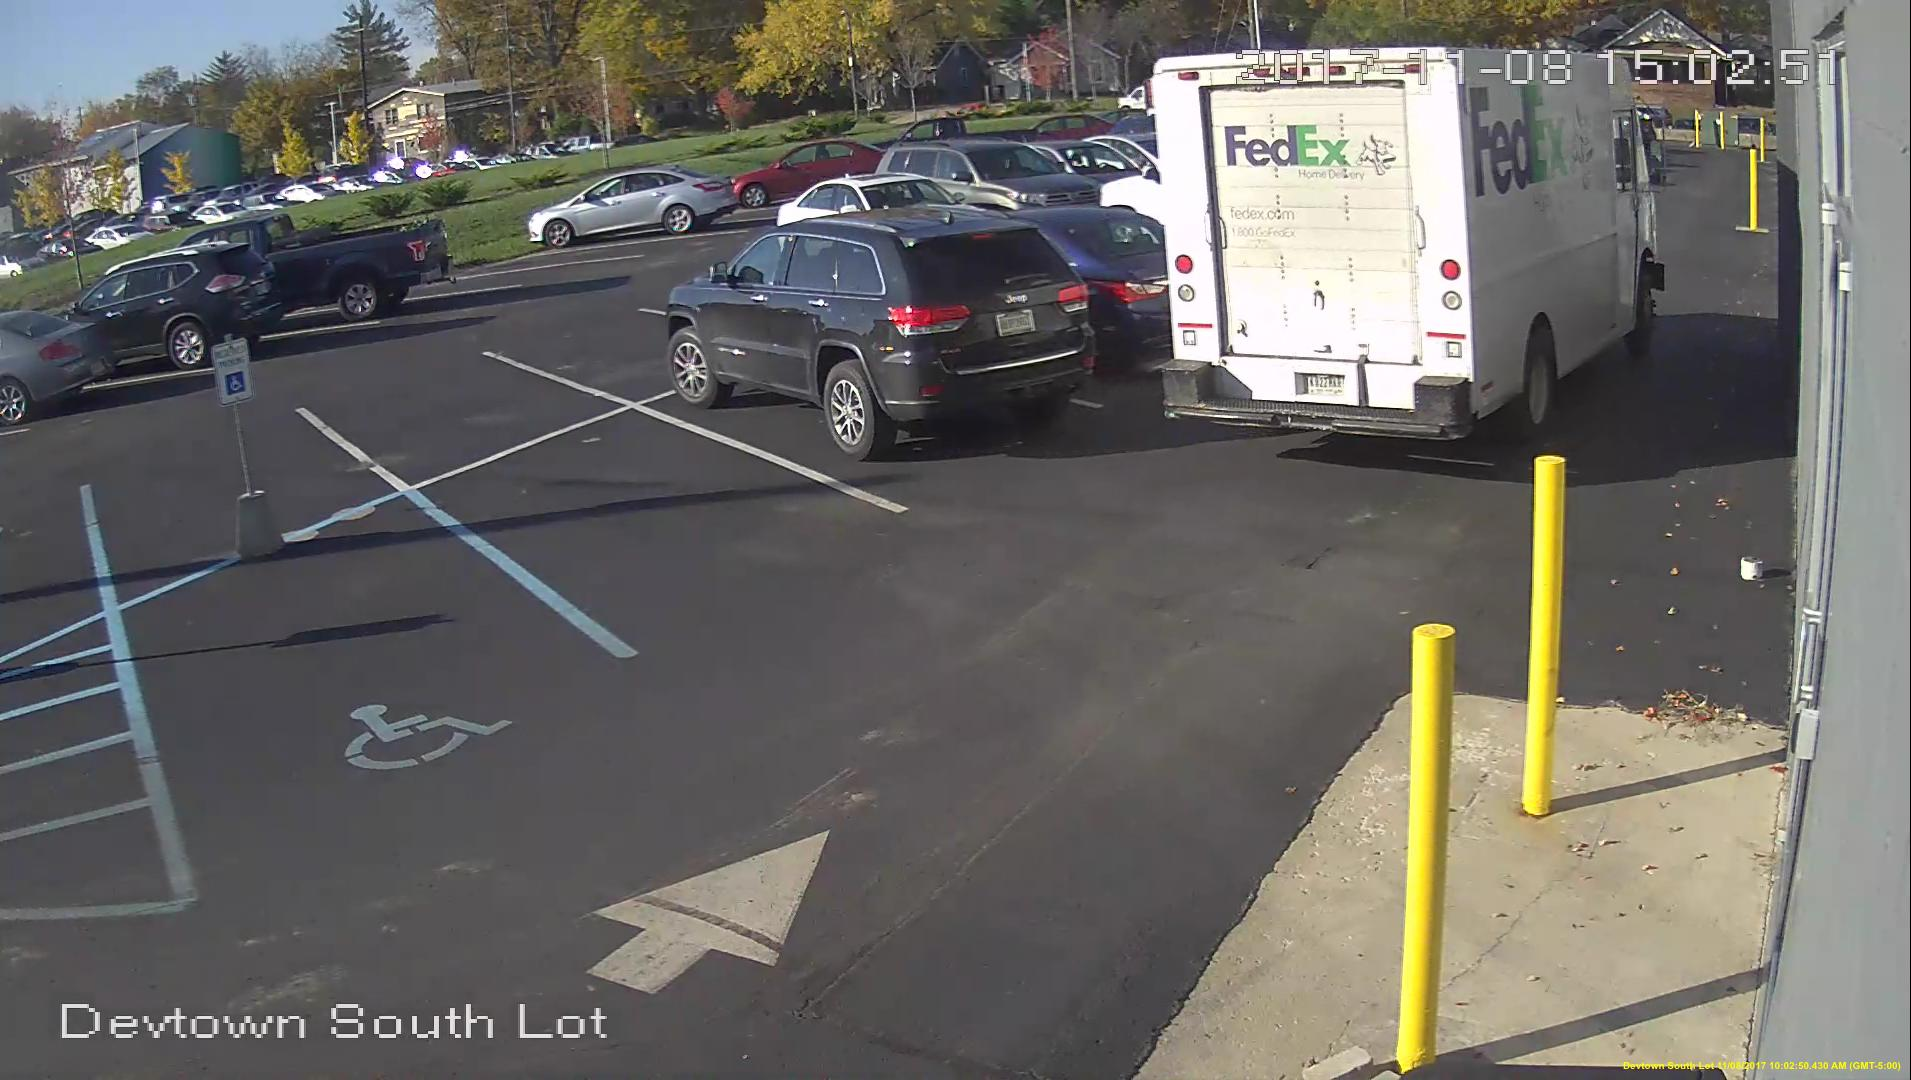fedex_truck: (1147, 45, 1671, 451)
